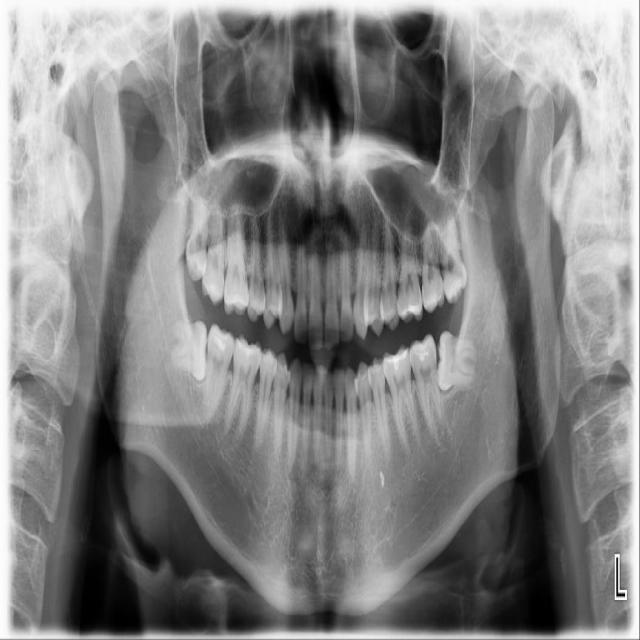Filling: (210, 328, 234, 354), (412, 339, 435, 362), (386, 349, 409, 369)
impacted tooth: (160, 321, 209, 380), (438, 331, 479, 389)
